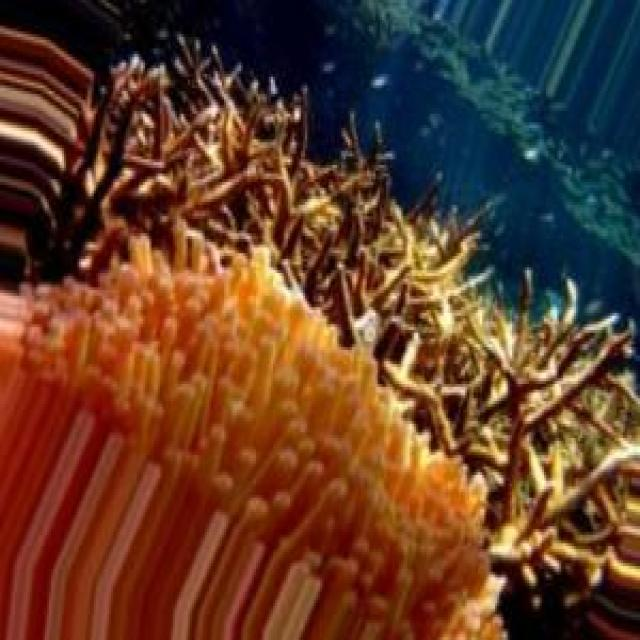Healthy: (3, 240, 500, 638)
